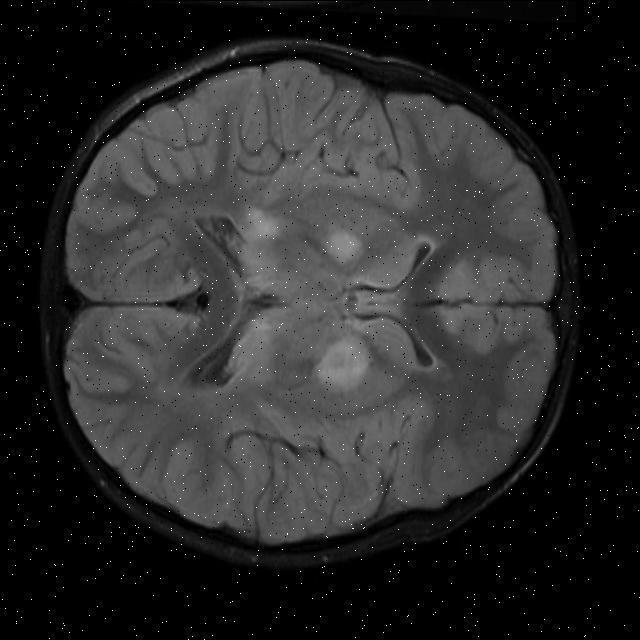No_Tumor: (40, 39, 577, 564)
